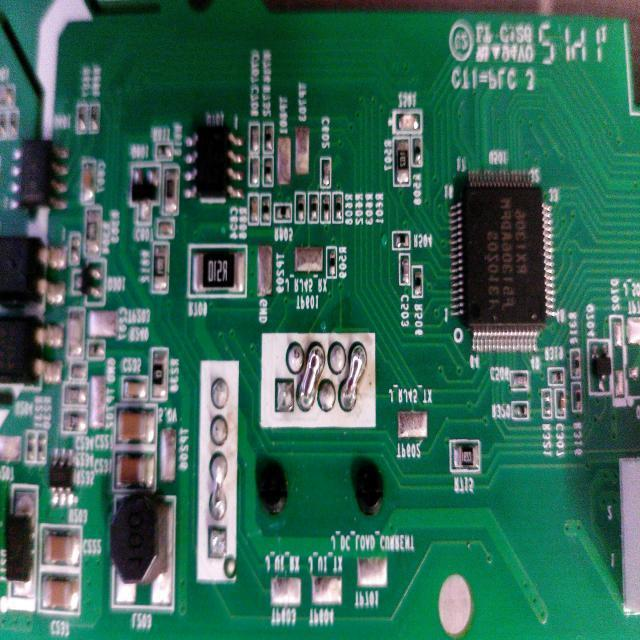Soldering shorted: (336, 338, 368, 415), (296, 338, 326, 412), (208, 452, 228, 522)
